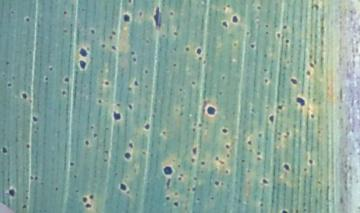tarspot: (152, 6, 162, 29), (205, 104, 217, 117), (294, 94, 306, 107), (78, 47, 88, 58), (77, 59, 87, 70), (122, 13, 132, 24), (163, 165, 173, 176), (118, 182, 127, 192), (112, 111, 121, 121), (282, 163, 291, 172), (290, 76, 298, 86), (1, 146, 9, 155), (123, 151, 131, 160), (221, 20, 229, 29), (8, 7, 16, 16), (165, 177, 171, 189), (191, 144, 197, 155), (31, 115, 39, 123), (8, 189, 16, 197), (231, 15, 239, 23), (274, 31, 282, 39), (62, 76, 71, 83), (220, 127, 229, 134), (188, 79, 197, 86), (313, 3, 320, 12), (195, 47, 202, 55), (172, 30, 179, 38), (277, 103, 284, 111), (114, 101, 122, 108), (167, 10, 175, 17), (172, 200, 180, 207), (172, 189, 179, 197), (189, 156, 196, 164), (238, 157, 246, 164), (262, 178, 269, 186), (102, 80, 111, 86), (268, 114, 274, 123), (133, 78, 139, 87), (61, 9, 68, 16), (60, 89, 67, 96), (129, 49, 136, 56), (263, 29, 270, 36), (307, 158, 314, 165), (190, 126, 197, 133), (127, 102, 133, 110), (144, 123, 150, 131), (128, 141, 134, 149), (284, 37, 290, 45), (163, 195, 171, 201), (191, 185, 197, 193), (276, 130, 282, 138), (90, 27, 95, 36), (24, 17, 31, 23), (61, 28, 68, 34), (84, 139, 90, 146), (85, 203, 92, 209), (127, 86, 134, 92), (220, 74, 226, 81), (309, 61, 315, 68), (103, 148, 109, 155), (161, 31, 167, 38), (224, 152, 231, 158), (200, 160, 206, 167), (143, 83, 149, 90), (302, 166, 308, 173), (263, 77, 268, 85), (257, 3, 262, 11), (178, 85, 183, 93), (214, 153, 219, 161), (186, 185, 191, 193), (6, 82, 12, 88), (48, 65, 54, 71), (43, 75, 49, 81), (89, 194, 95, 200), (92, 132, 98, 138), (111, 45, 117, 51), (262, 67, 268, 73), (138, 11, 144, 17), (161, 130, 167, 136), (224, 143, 230, 149), (245, 30, 251, 36), (282, 23, 288, 29), (305, 70, 311, 76), (309, 113, 315, 119), (214, 180, 220, 186), (89, 124, 95, 130), (262, 52, 268, 58), (25, 142, 30, 149), (29, 173, 34, 180), (68, 161, 75, 166), (250, 42, 255, 49), (197, 55, 202, 62), (179, 111, 184, 118), (102, 158, 109, 163), (224, 168, 229, 175), (22, 93, 27, 99), (21, 204, 27, 209), (53, 186, 59, 191), (82, 196, 87, 202), (100, 43, 106, 48), (108, 35, 114, 40), (185, 47, 190, 53), (144, 69, 149, 75), (132, 57, 137, 63), (198, 122, 203, 128), (172, 62, 177, 68), (264, 23, 270, 28), (256, 150, 261, 156), (178, 176, 183, 182), (220, 161, 226, 166), (24, 195, 30, 200), (141, 150, 146, 156), (192, 177, 198, 182), (209, 195, 214, 201), (257, 156, 262, 162), (34, 174, 38, 181), (247, 139, 251, 146), (287, 131, 291, 138), (281, 209, 288, 213), (219, 89, 223, 96), (125, 1, 134, 4), (226, 3, 231, 8), (5, 59, 9, 65), (112, 30, 116, 36), (233, 41, 237, 47), (258, 133, 262, 139), (260, 202, 264, 208), (97, 99, 102, 103), (73, 175, 78, 179), (177, 163, 181, 168)
